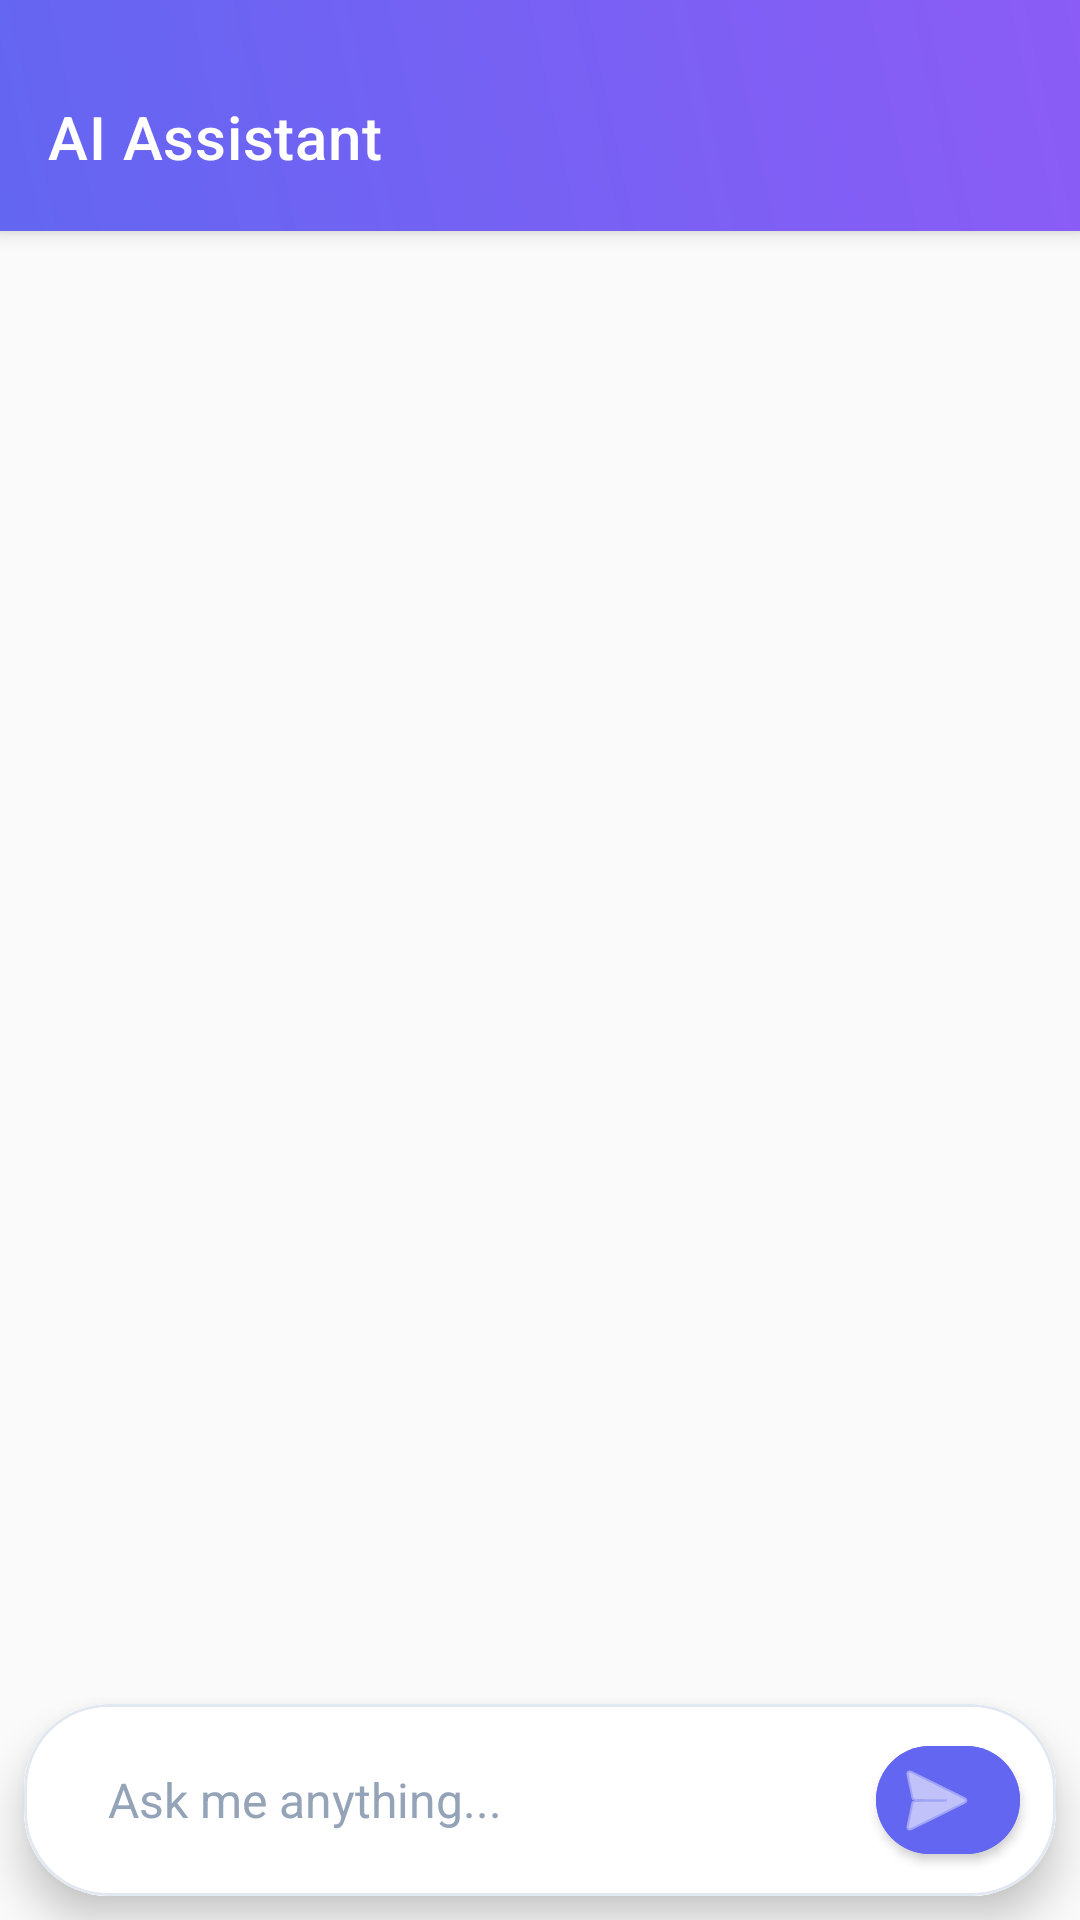

Named icons in this screenshot (1080 × 1920) and their centers, (x=x, y=y):
Send message: (x=948, y=1803)
